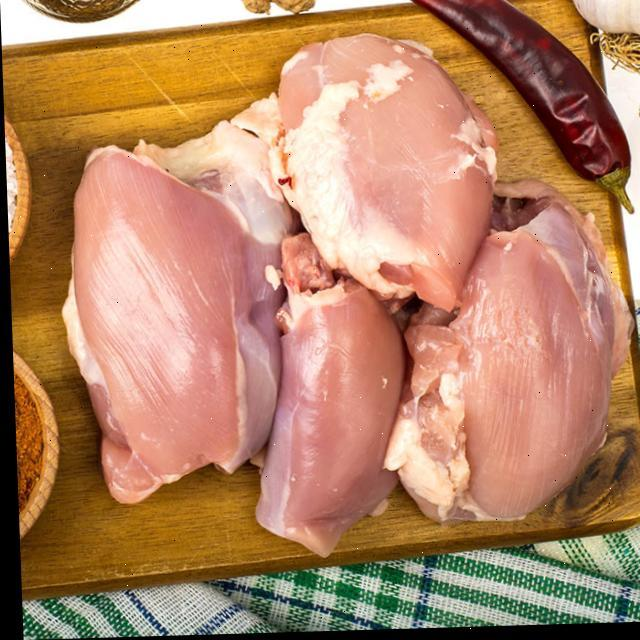thigh: (23, 147, 283, 489), (428, 207, 610, 543), (240, 268, 402, 552)
